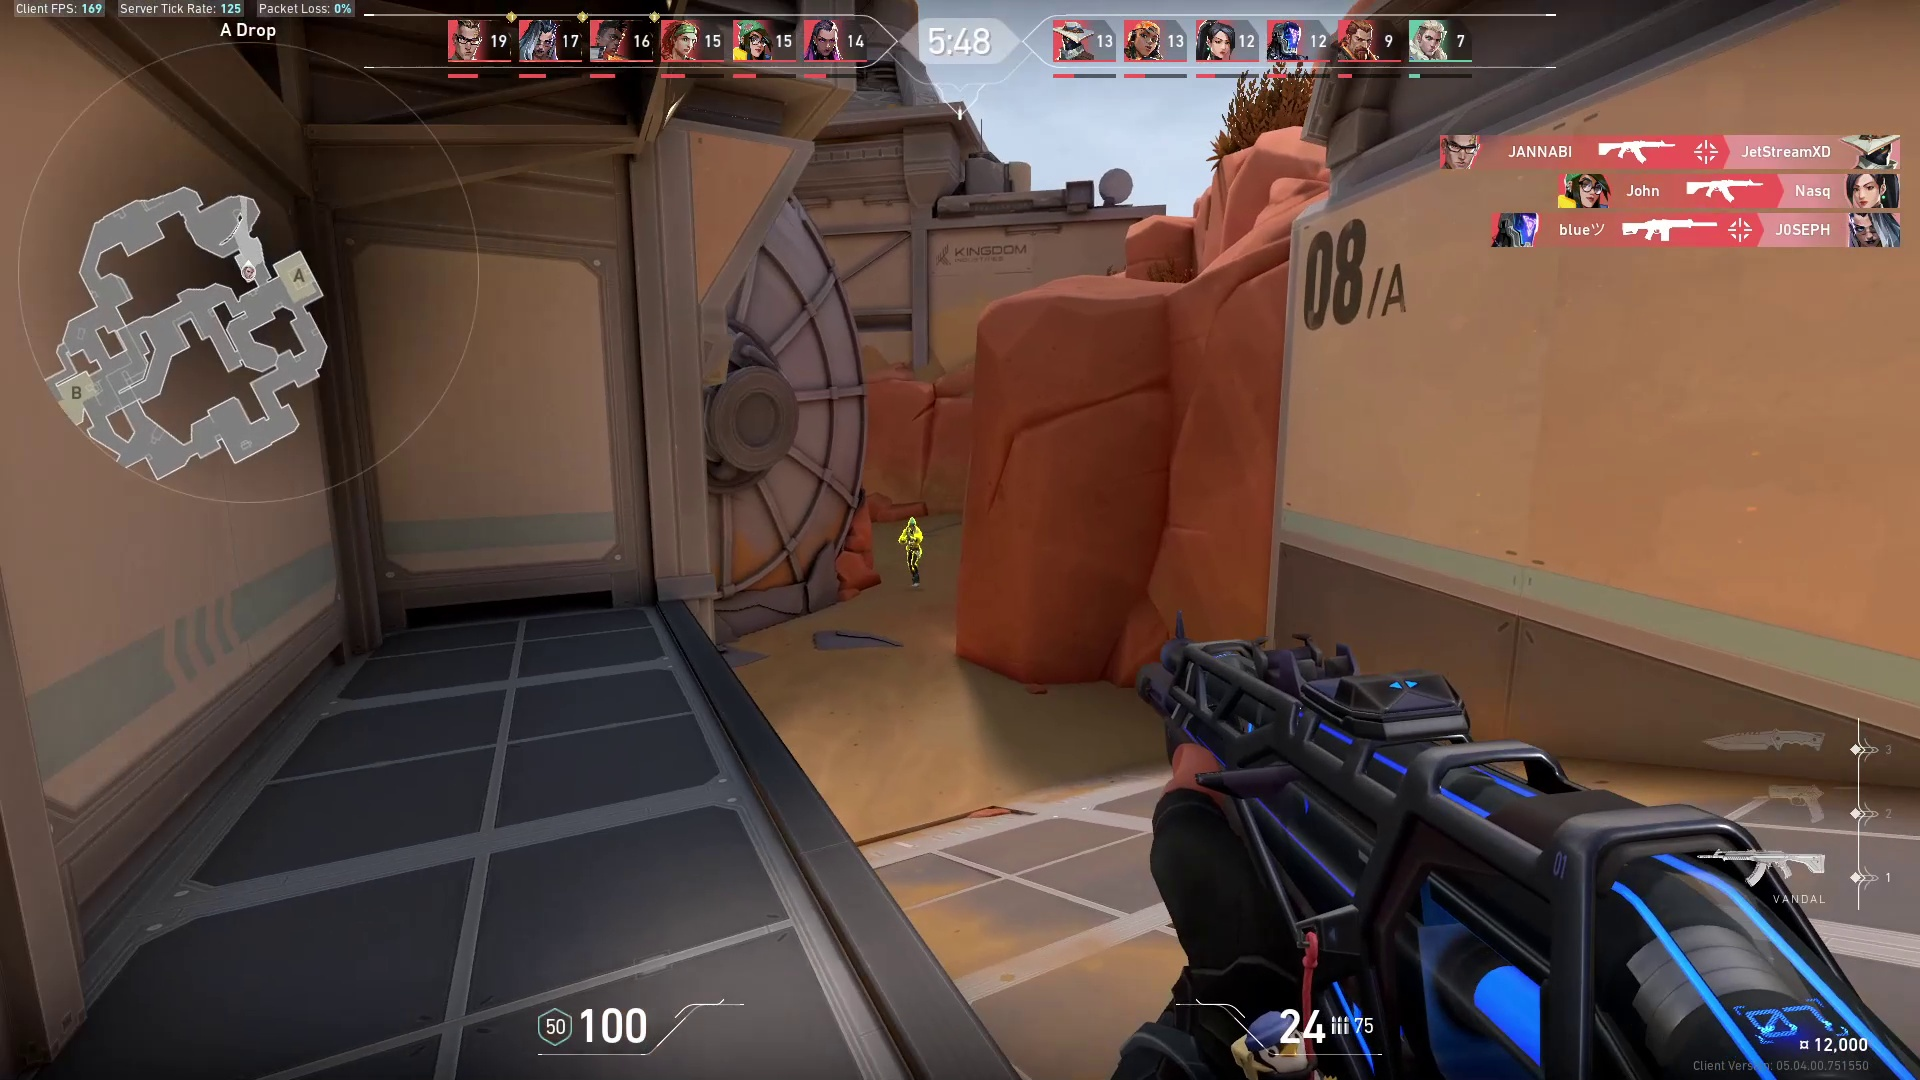enemy_body: (897, 529, 929, 591)
enemy_head: (905, 515, 919, 531)
